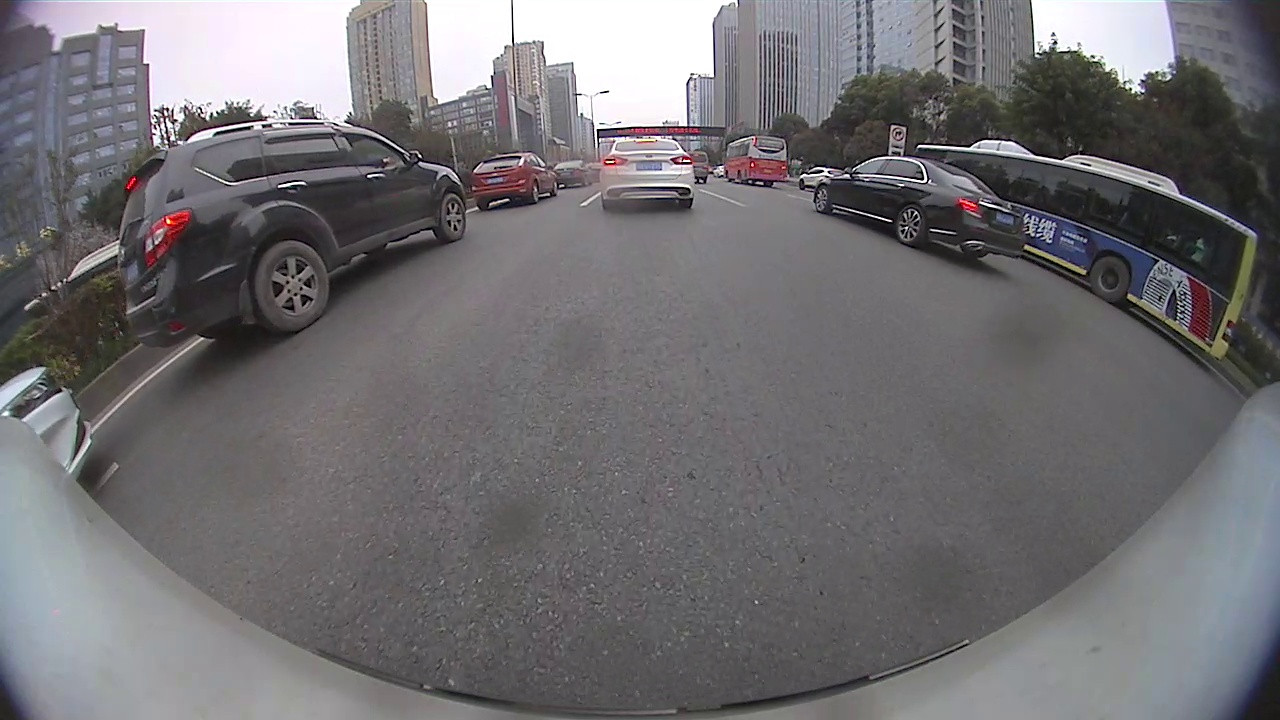bus: (914, 137, 1259, 364), (722, 134, 789, 189)
car: (117, 117, 469, 349), (813, 154, 1028, 261), (0, 363, 96, 483), (598, 136, 698, 211), (469, 149, 561, 213)
